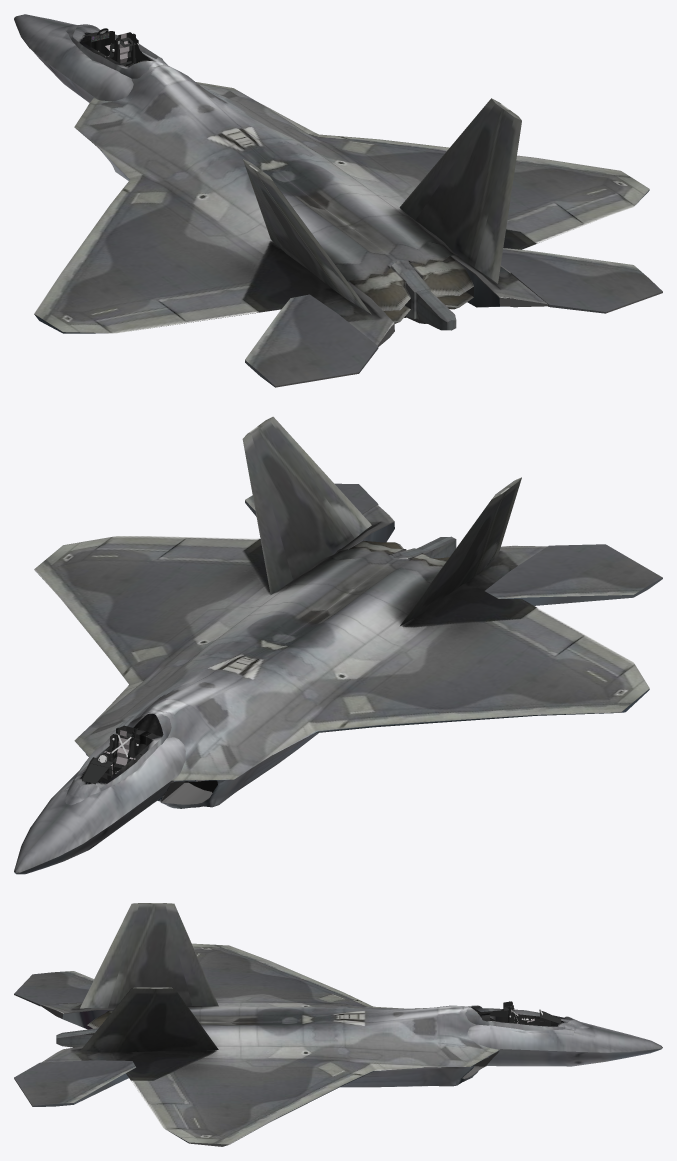
3 views of the same model, one above another, from view 1: azimuth 30°, elevation 25°; view 2: azimuth 150°, elevation 25°; view 3: azimuth 270°, elevation 25° (orthographic). The views are drawn at different scales.
Visible parts, largest first — view 1: body|f22_top_U, body|f22_top_D, body|Grey, body|Darker_paint.001, body|f22_bottom_R.; view 2: body|f22_top_U, body|f22_top_D, body|f22_bottom_L, body|f22_bottom_L_darker, body|Darker_paint.001, body|Grey; view 3: body|f22_top_D, body|f22_top_U, body|f22_bottom_R., body|f22_bottom_R_darker, body|f22_bottom_L, body|Darker_paint.001, body|Grey.
Boxes of the visible parts, <box> form: body|f22_top_U: <box>14,14,662,385</box>; body|f22_top_D: <box>24,14,649,330</box>; body|Grey: <box>34,248,662,387</box>; body|Darker_paint.001: <box>82,28,150,66</box>; body|f22_bottom_R.: <box>454,189,649,307</box>; body|f22_top_U: <box>14,417,662,872</box>; body|f22_top_D: <box>14,416,456,869</box>; body|f22_bottom_L: <box>157,500,662,808</box>; body|f22_bottom_L_darker: <box>16,780,171,874</box>; body|Darker_paint.001: <box>82,725,141,784</box>; body|Grey: <box>14,504,648,872</box>; body|f22_top_D: <box>42,903,661,1144</box>; body|f22_top_U: <box>14,903,662,1105</box>; body|f22_bottom_R.: <box>169,1050,498,1144</box>; body|f22_bottom_R_darker: <box>486,1048,662,1066</box>; body|f22_bottom_L: <box>32,1009,132,1106</box>; body|Darker_paint.001: <box>480,1001,561,1026</box>; body|Grey: <box>14,1002,661,1146</box>.
Bounding box in the file's own units: 13.73 × 4.04 × 18.91.
16 materials, 8 textured.
